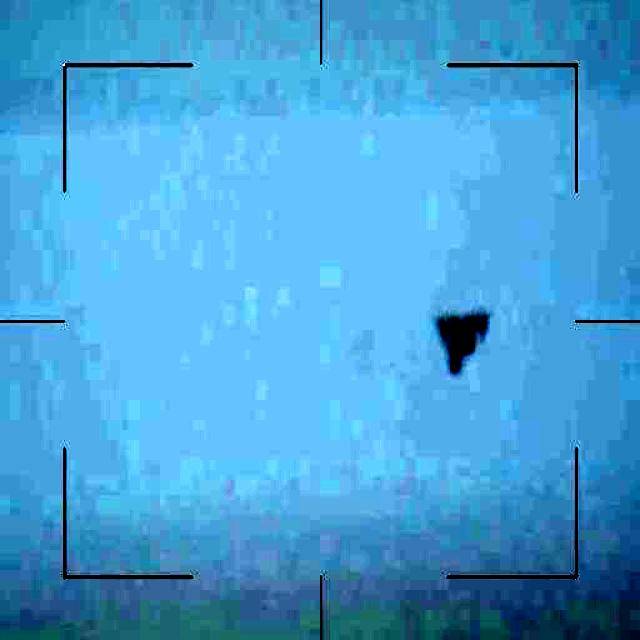bird: (424, 301, 491, 376)
